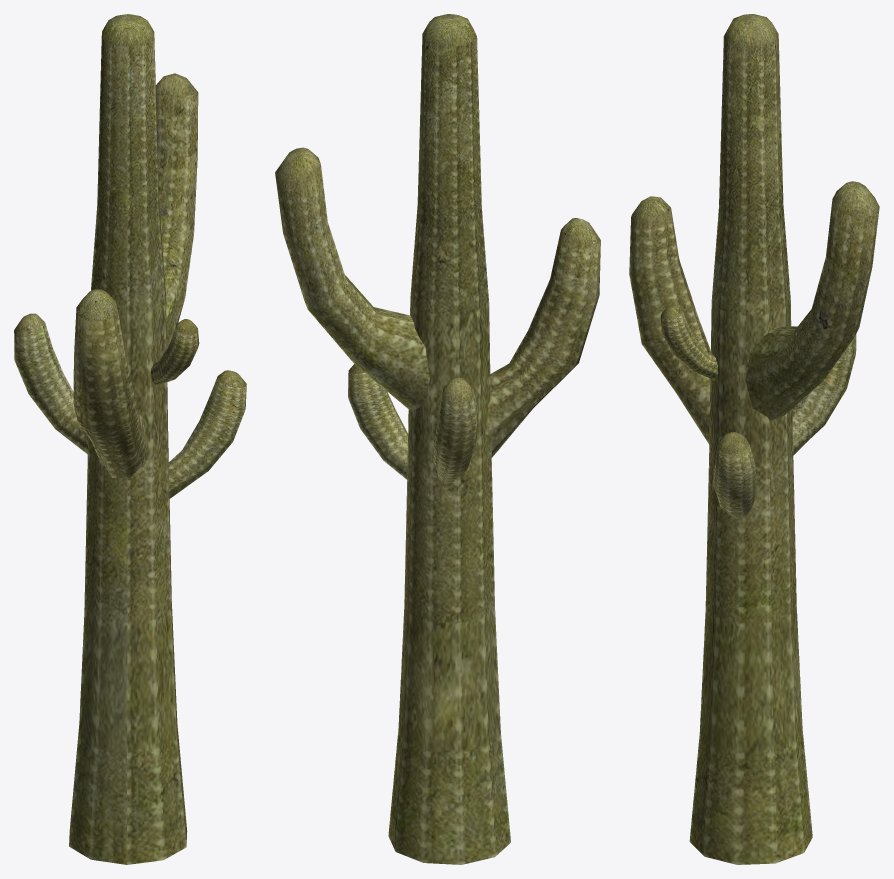
File: object_37.001_lev2.001.glb
3 renders of one model, left to right at view 1: azimuth 30°, elevation 25°; view 2: azimuth 150°, elevation 25°; view 3: azimuth 270°, elevation 25°, orthographic.
Visible parts, largest first — view 1: object_37.001_lev2.001; view 2: object_37.001_lev2.001; view 3: object_37.001_lev2.001.
Boxes of the visible parts, left/top/right/bottom form: object_37.001_lev2.001: left=14, top=14, right=246, bottom=864; object_37.001_lev2.001: left=275, top=14, right=600, bottom=864; object_37.001_lev2.001: left=629, top=14, right=879, bottom=864.
Size of the model in its own units: 0.606 by 2.18 by 0.6024.
Materials: 1 (1 with a texture image).
